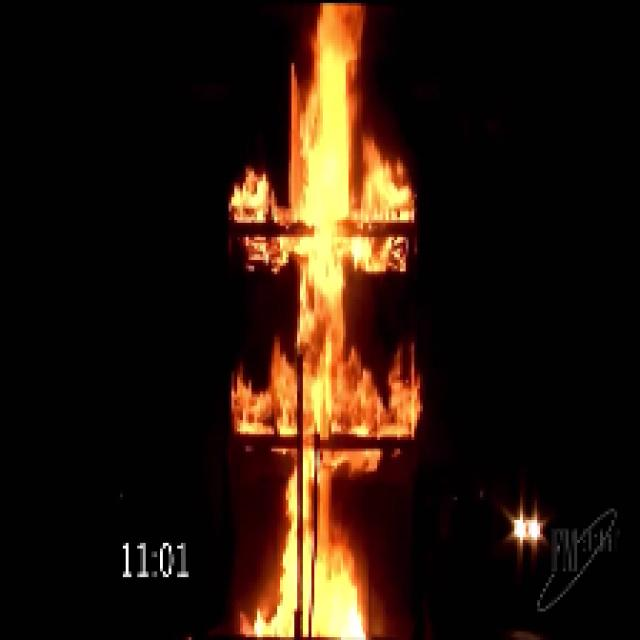fire: (259, 8, 371, 628)
